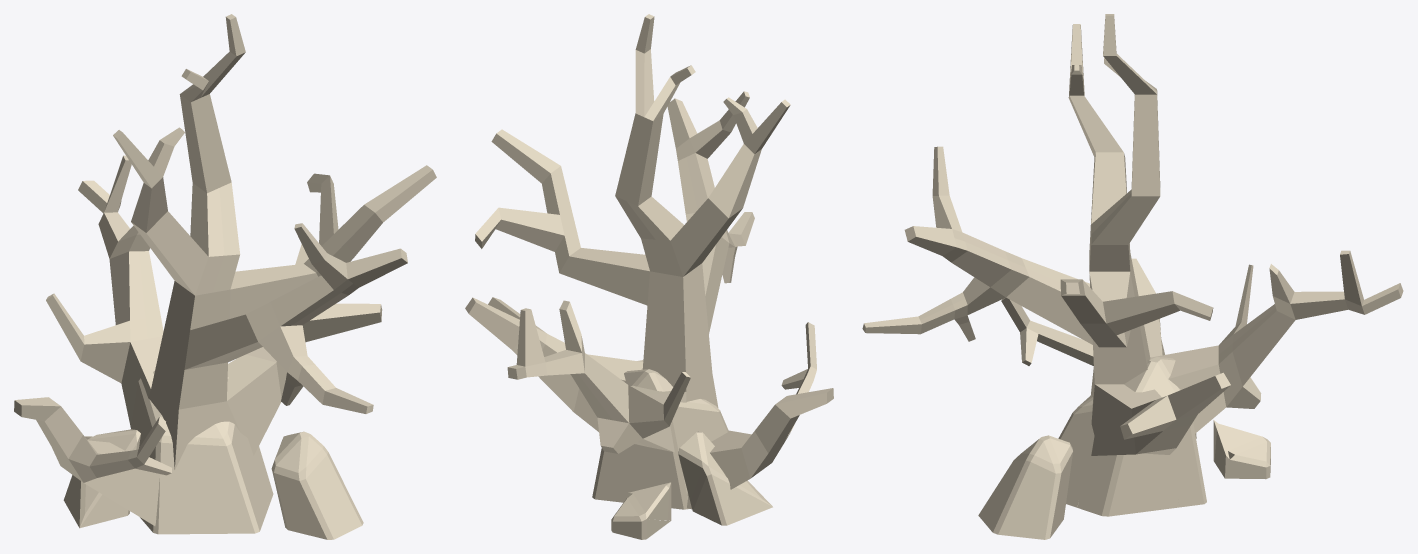
Rendered from coral-0-far.glb.
The picture shows the model from 3 angles, left to right: view 1: azimuth 30°, elevation 25°; view 2: azimuth 150°, elevation 25°; view 3: azimuth 270°, elevation 25°; orthographic projection. The views are drawn at different scales.
Visible parts, largest first — view 1: coral; view 2: coral; view 3: coral.
Part boxes in pixels (x1=…): coral: x1=14, y1=14, x2=436, y2=539; coral: x1=465, y1=14, x2=833, y2=539; coral: x1=862, y1=14, x2=1403, y2=539.
Bounding box in the file's own units: 0.8256 × 0.9853 × 1.
